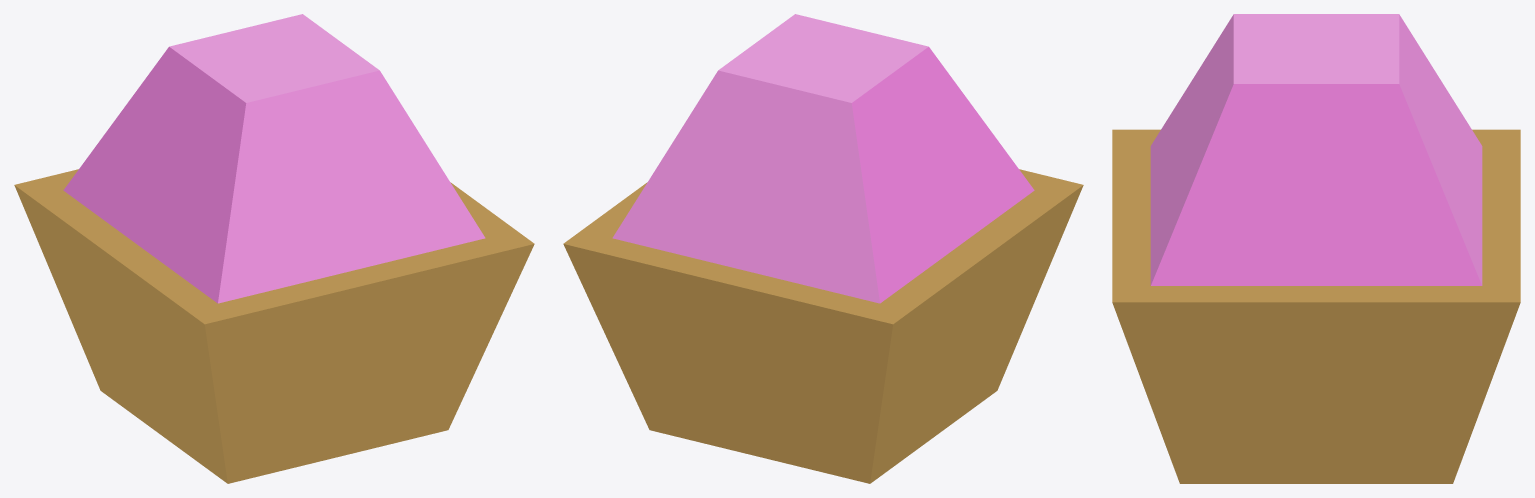
The model's file is Cupcake3.glb.
The picture shows the model from 3 angles, left to right: view 1: azimuth 30°, elevation 25°; view 2: azimuth 150°, elevation 25°; view 3: azimuth 270°, elevation 25°; orthographic projection. The views are drawn at different scales.
Parts seen in each view (by area): view 1: SI_Food_Bakery_Cupcake_03; view 2: SI_Food_Bakery_Cupcake_03; view 3: SI_Food_Bakery_Cupcake_03.
Boxes of the visible parts, bbox=[...] form: SI_Food_Bakery_Cupcake_03: bbox=[14, 14, 534, 483]; SI_Food_Bakery_Cupcake_03: bbox=[563, 14, 1083, 483]; SI_Food_Bakery_Cupcake_03: bbox=[1112, 14, 1520, 483].
Bounding box in the file's own units: 0.00215 × 0.00219 × 0.00215.
Materials: 1 (1 with a texture image).
